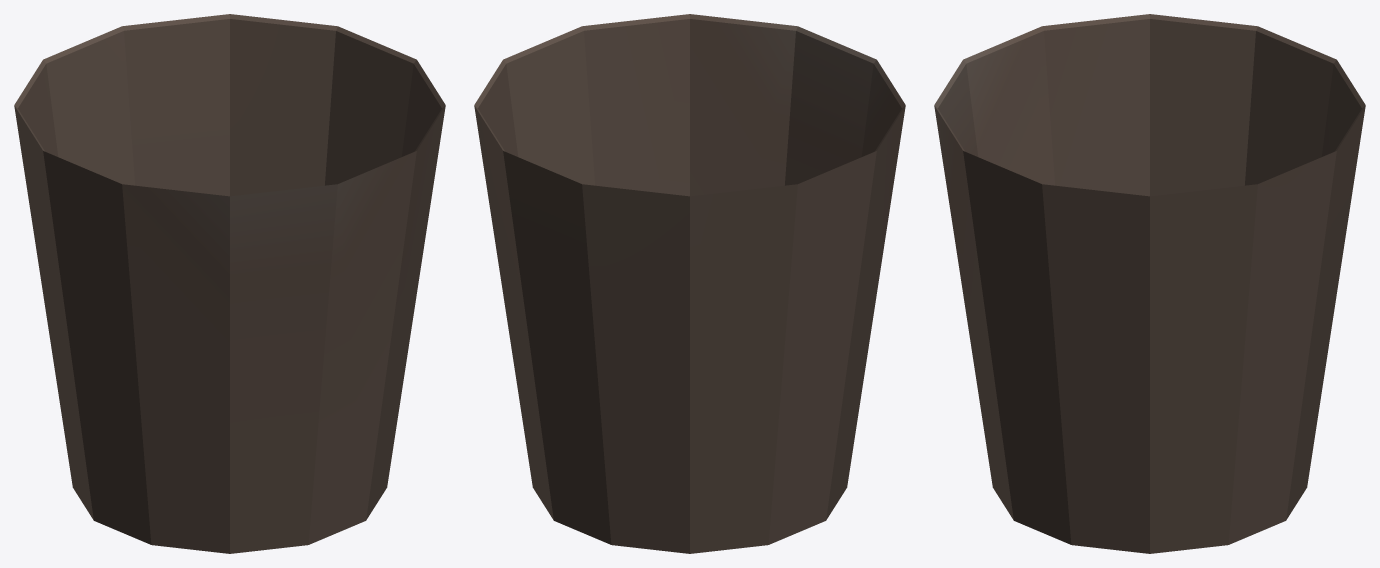
The model's file is vuilnisbak.fbx.
The picture shows the model from 3 angles, left to right: view 1: azimuth 30°, elevation 25°; view 2: azimuth 150°, elevation 25°; view 3: azimuth 270°, elevation 25°; orthographic projection.
Parts seen in each view (by area): view 1: Circle; view 2: Circle; view 3: Circle.
Boxes of the visible parts, bbox=[...] form: Circle: bbox=[14, 14, 445, 553]; Circle: bbox=[474, 14, 905, 553]; Circle: bbox=[934, 14, 1365, 553].
Bounding box in the file's own units: 279 × 273 × 279.
1 material, 1 textured.
